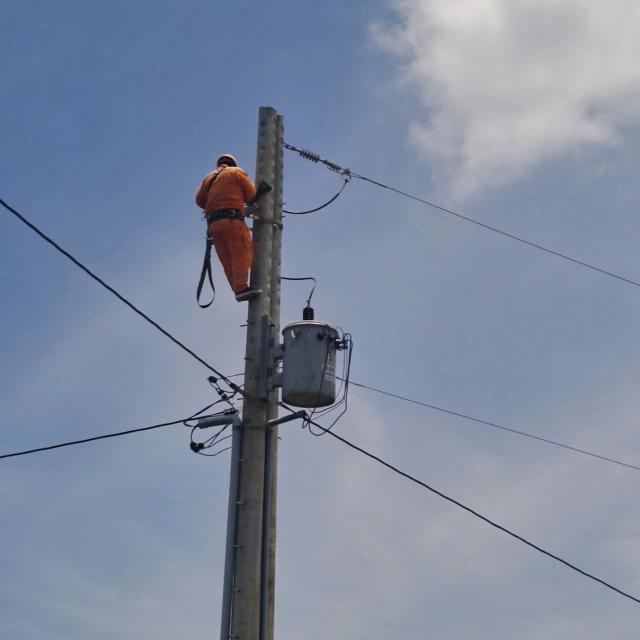harness: (197, 204, 257, 225)
helmet: (215, 148, 239, 172)
shoes: (218, 284, 265, 298)
